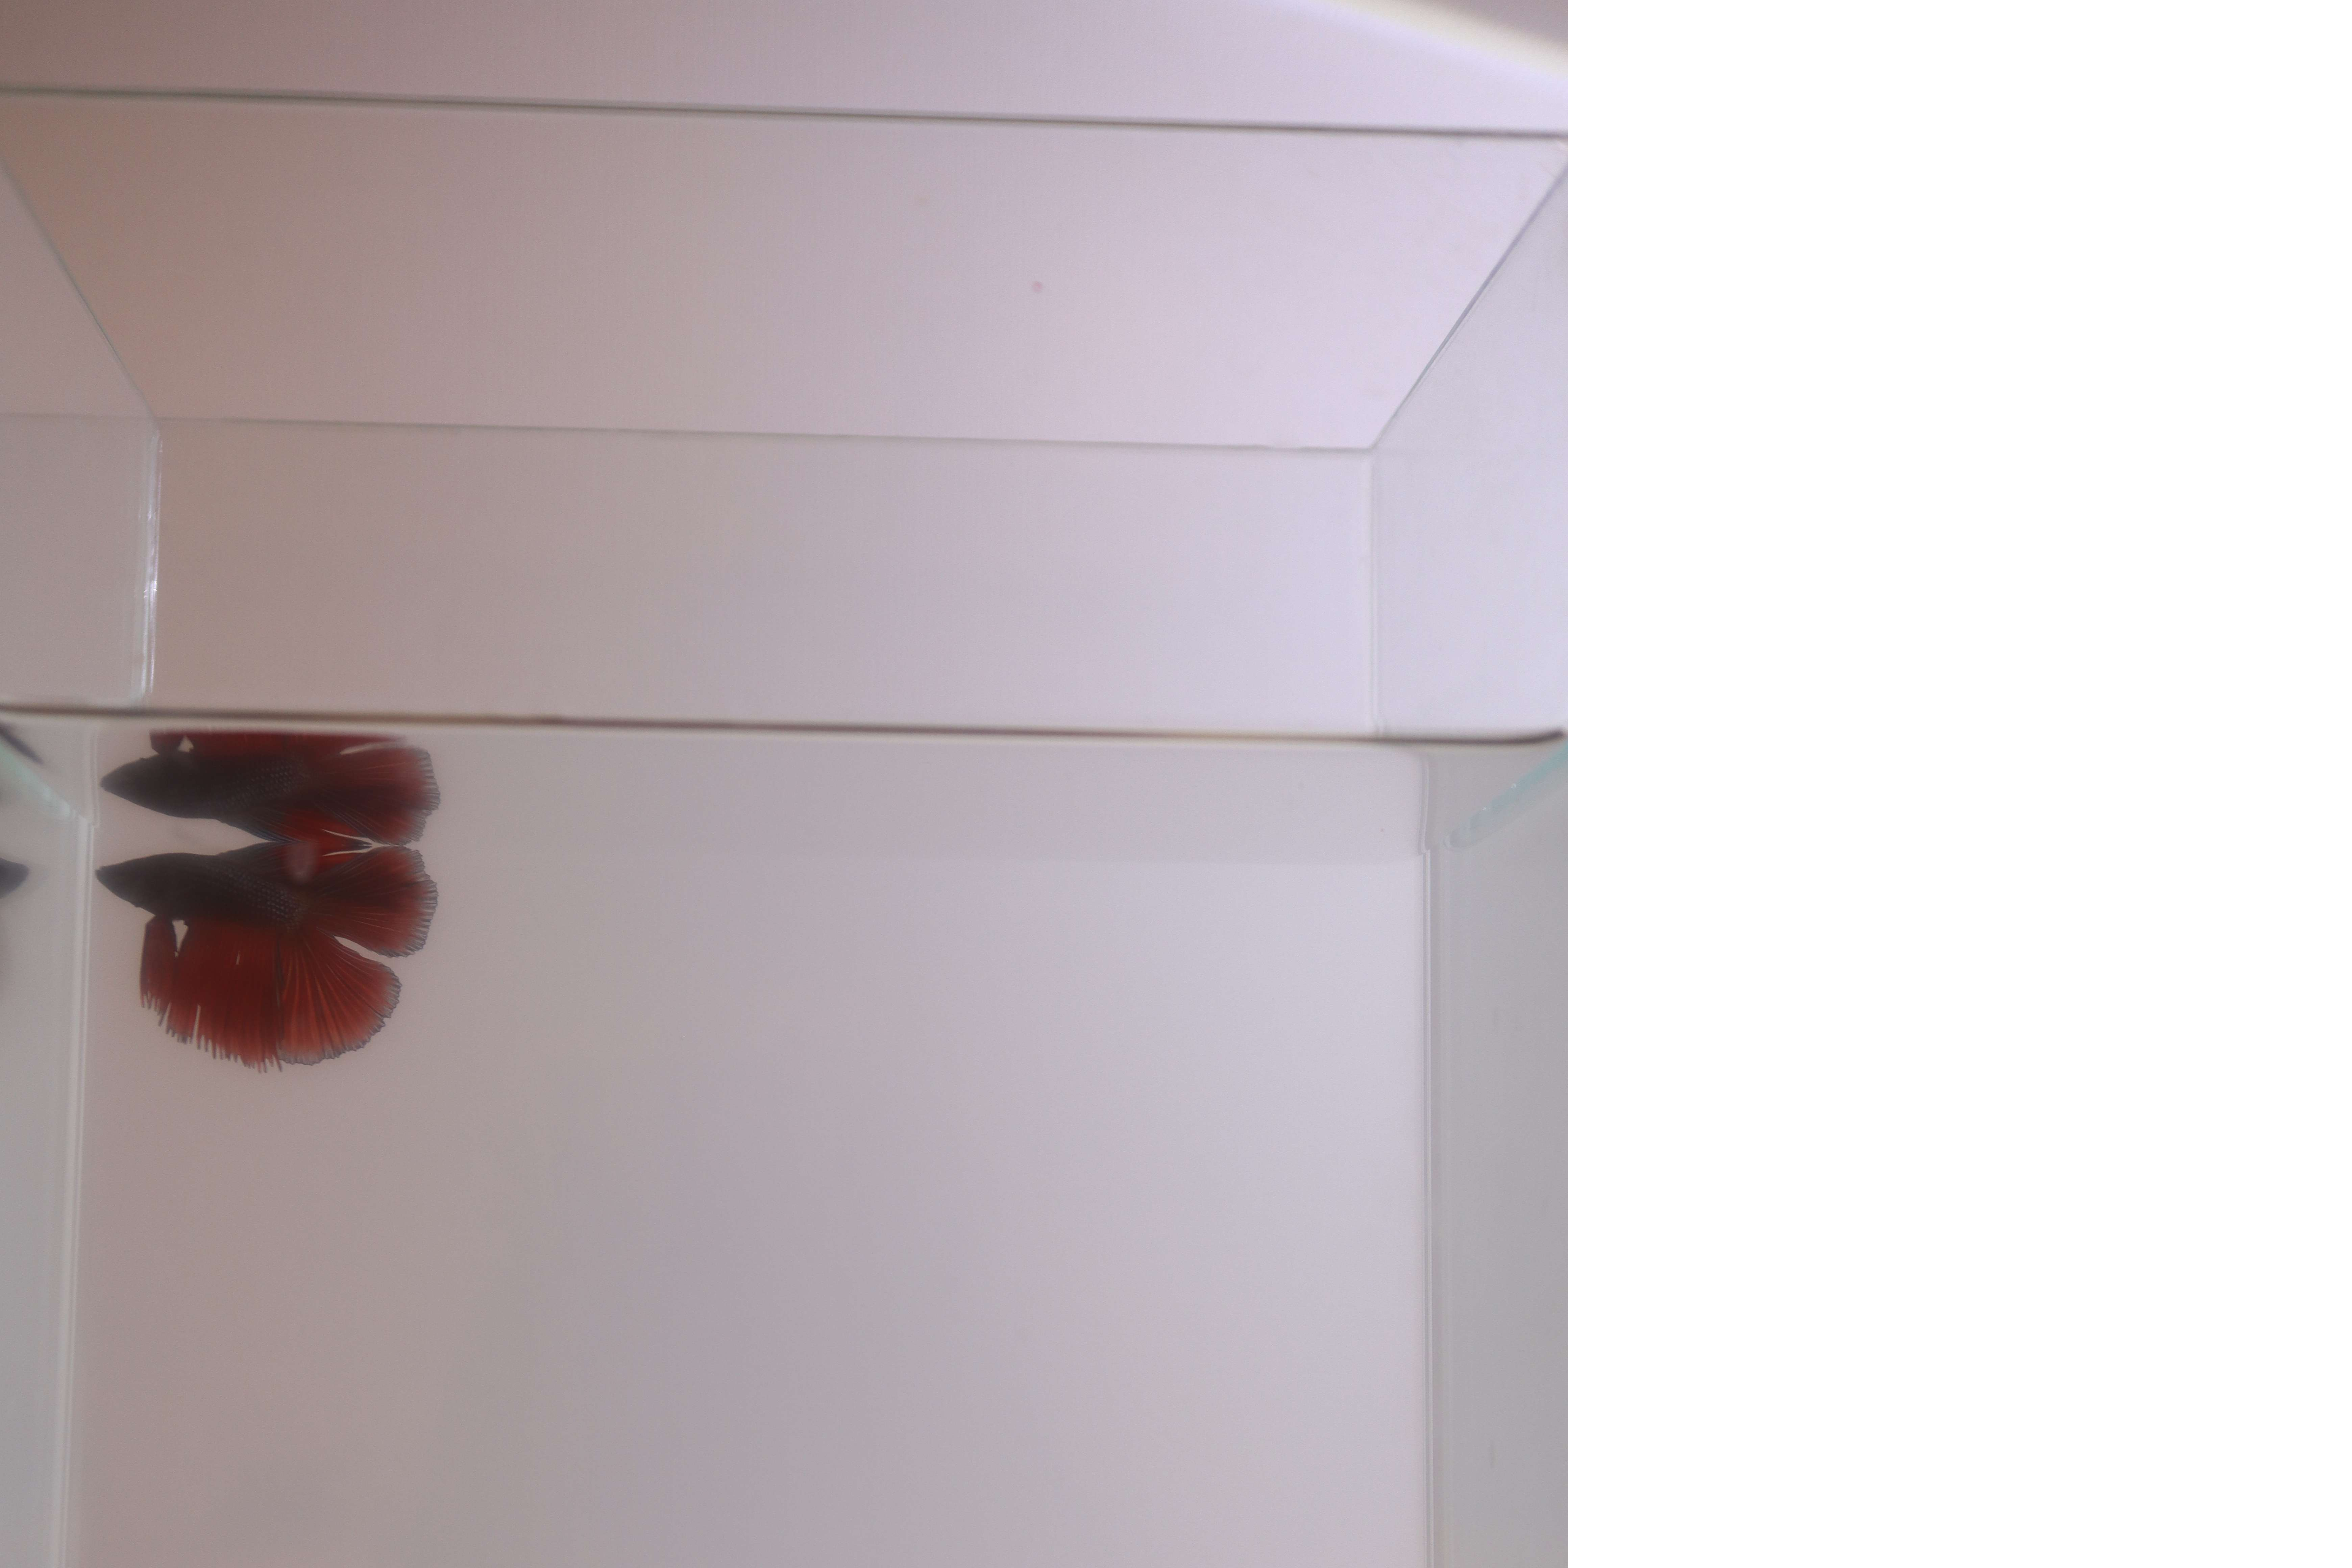fish: (89, 826, 444, 1087)
